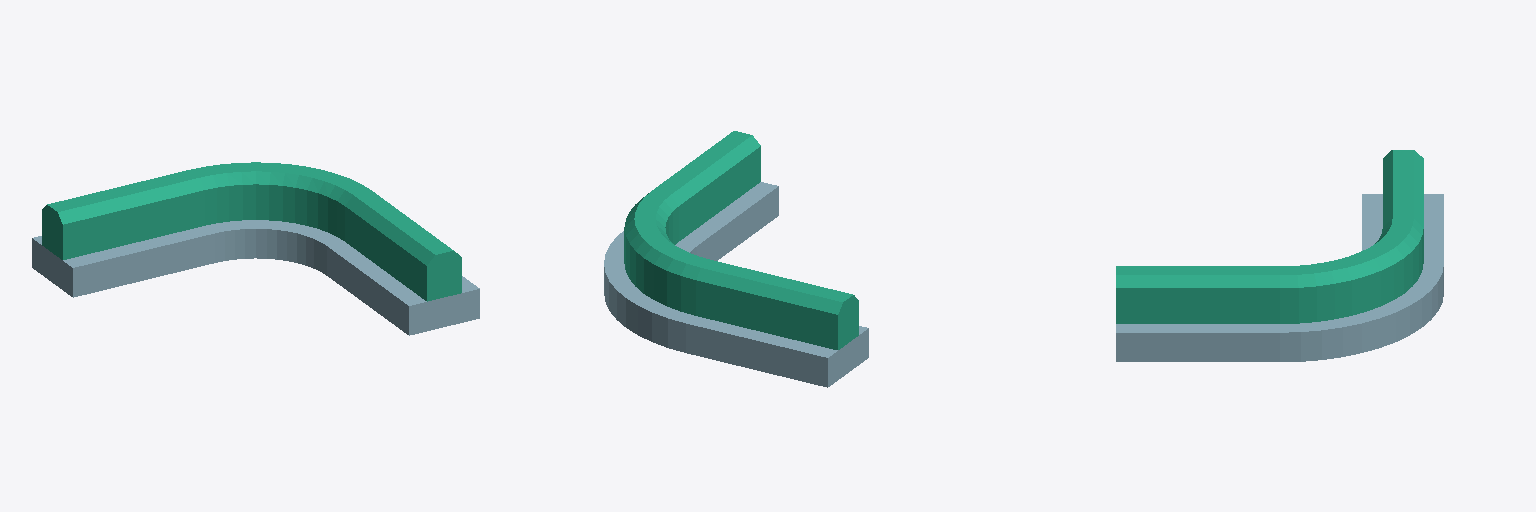
The model's file is hedgeCurved.obj.
3 views of the same model, side by side, from view 1: azimuth 30°, elevation 25°; view 2: azimuth 150°, elevation 25°; view 3: azimuth 270°, elevation 25° (orthographic).
Parts seen in each view (by area): view 1: hedgeCurved; view 2: hedgeCurved; view 3: hedgeCurved.
Boxes of the visible parts, x1=… form: hedgeCurved: x1=32, y1=162, x2=479, y2=335; hedgeCurved: x1=604, y1=131, x2=868, y2=387; hedgeCurved: x1=1116, y1=150, x2=1443, y2=361.
Bounding box in the file's own units: 1 × 0.25 × 1.